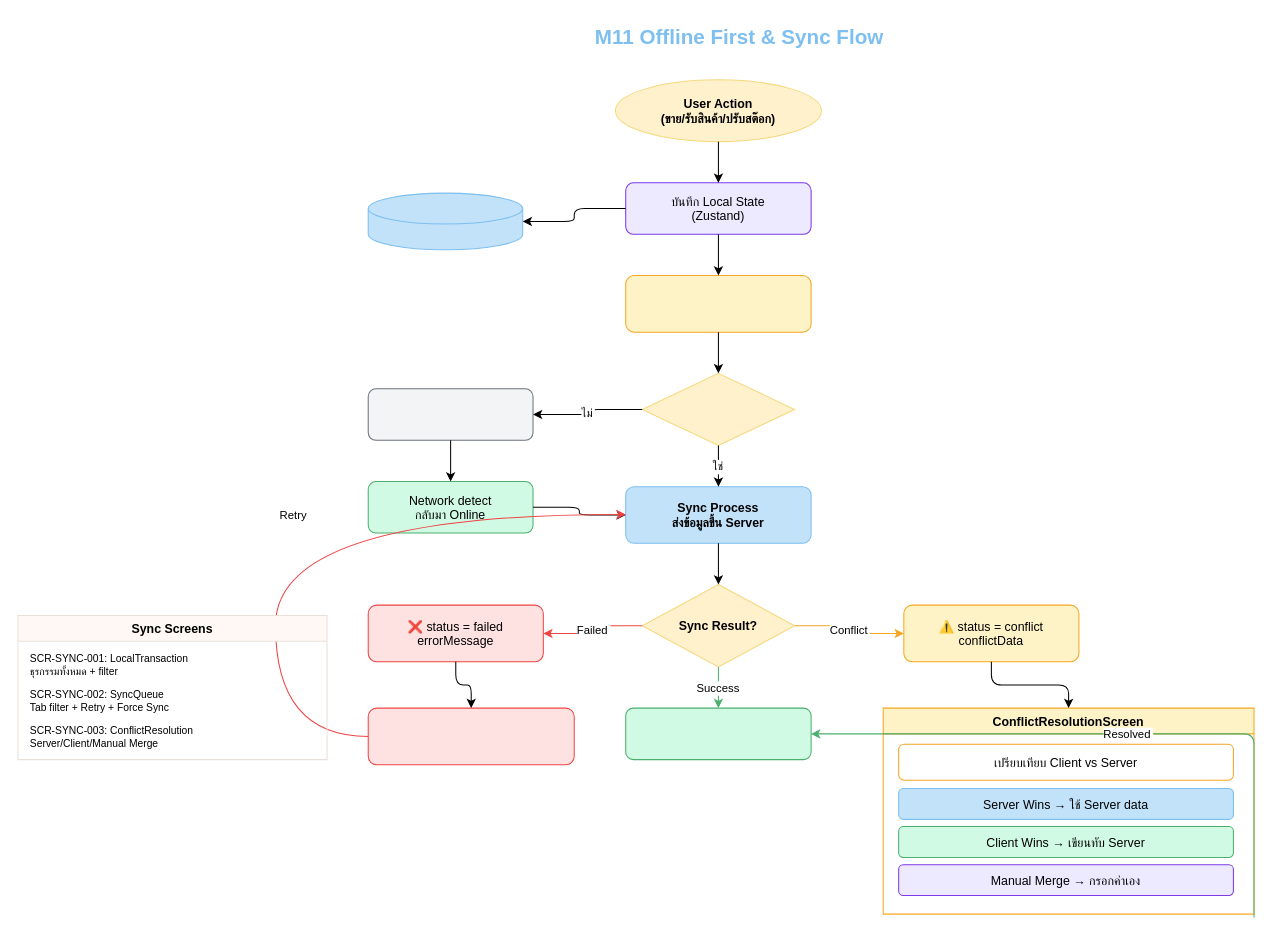
Image size: 1280x946. Some labels were removed from this diagram. Each missing label, with the centre of its shape:
Online?: [718,408]
SyncQueueScreen [Retry] หรือ [Retry ทั้งหมด]: [470,736]
บันทึก SQLite (Local DB): [445,221]
รอ Online Queue ค้างอยู่: [450,414]
สร้าง SyncQueue entry status = pending: [718,303]
✅ status = success: [718,733]
